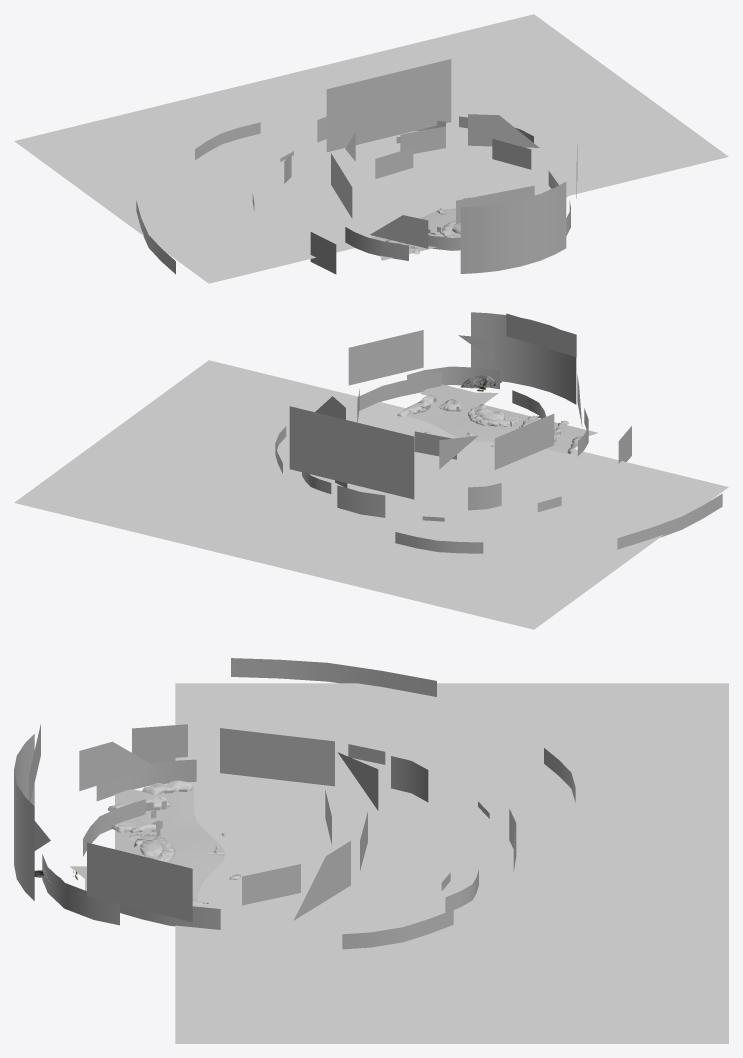
Rendered from Map01_Remake.fbx.
3 views of the same model, one above another, from view 1: azimuth 30°, elevation 25°; view 2: azimuth 150°, elevation 25°; view 3: azimuth 270°, elevation 25° (orthographic). The views are drawn at different scales.
Parts seen in each view (by area): view 1: Water_01_01, Trans_Cloud_01, Cutout_03, Cutout_06, Cutout_02, Terrain_01; view 2: Water_01_01, Trans_Cloud_01, Cutout_02, Cutout_03, Terrain_01, Cutout_06, Assets_04; view 3: Water_01_01, Trans_Cloud_01, Cutout_02, Cutout_06, Terrain_01, Cutout_03, Assets_04, Assets_08.
Part boxes in pixels (x1,y1,x2,y2): Water_01_01: (14, 14, 728, 283); Trans_Cloud_01: (326, 59, 577, 248); Cutout_03: (460, 182, 566, 273); Cutout_06: (310, 171, 570, 274); Cutout_02: (136, 116, 533, 274); Terrain_01: (370, 208, 460, 260); Water_01_01: (14, 360, 728, 629); Trans_Cloud_01: (289, 313, 582, 499); Cutout_02: (275, 426, 722, 553); Cutout_03: (471, 312, 576, 404); Terrain_01: (405, 384, 597, 454); Cutout_06: (357, 366, 631, 463); Assets_04: (468, 404, 519, 426); Water_01_01: (175, 683, 728, 1043); Trans_Cloud_01: (29, 724, 378, 922); Cutout_02: (231, 658, 575, 949); Cutout_06: (42, 724, 220, 929); Terrain_01: (70, 788, 225, 902); Cutout_03: (14, 734, 34, 900); Assets_04: (128, 834, 175, 862); Assets_08: (108, 780, 192, 811).
Size of the model in its own units: 1536 by 212 by 1255.
